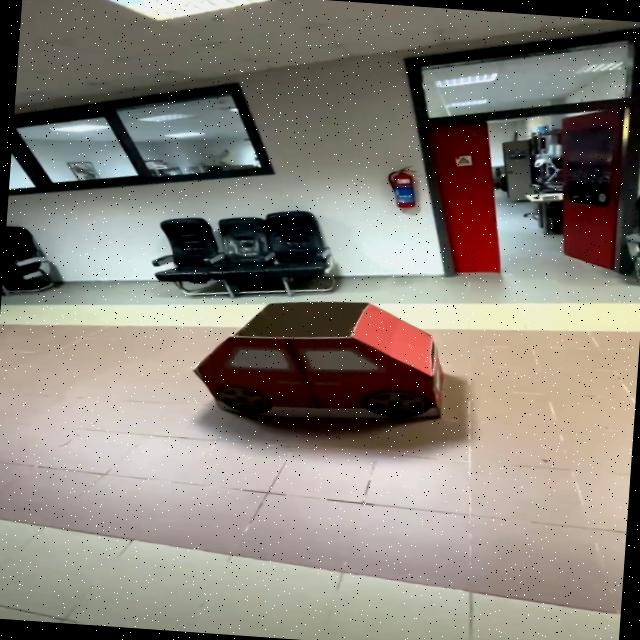red_car: (160, 284, 482, 445)
